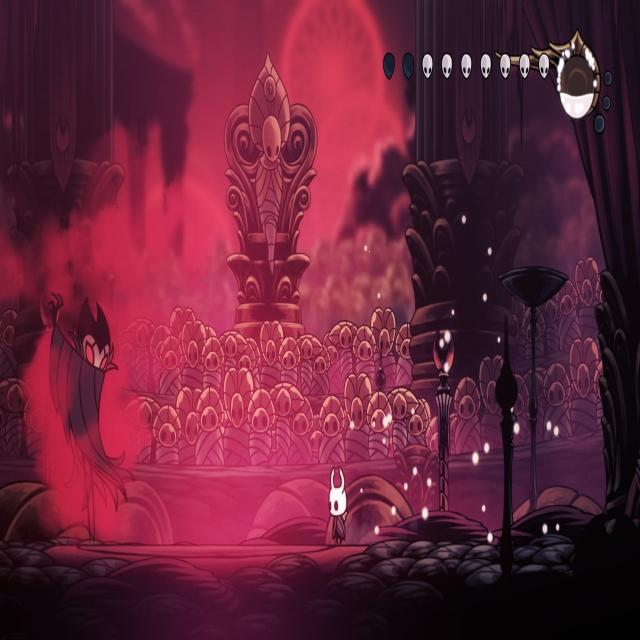Grimm: (44, 291, 138, 543)
Player: (325, 463, 351, 549)
